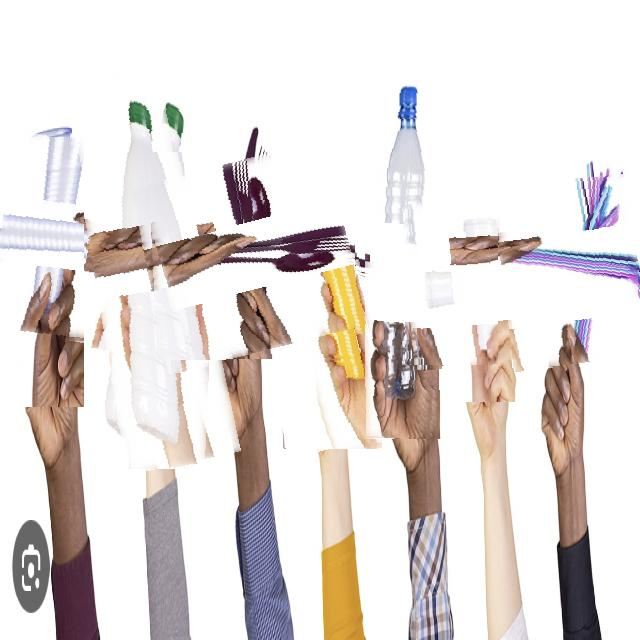recyclable: (84, 71, 222, 469), (147, 152, 355, 360), (0, 137, 162, 346), (265, 170, 382, 449), (363, 49, 442, 439), (405, 195, 576, 365), (498, 177, 640, 368)
